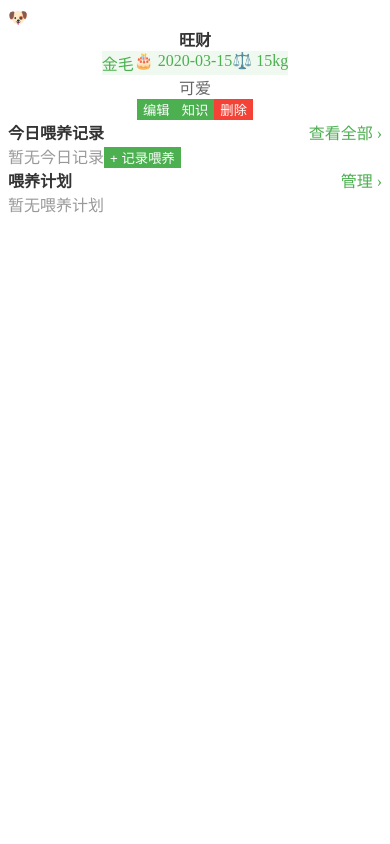
Test: 生日弹窗交互 › 点击🎂标签弹出生日编辑弹窗
Click the text with class "tag" showing "🎂 2020-03-15". click: (183,63)
box: [134, 51, 232, 75]
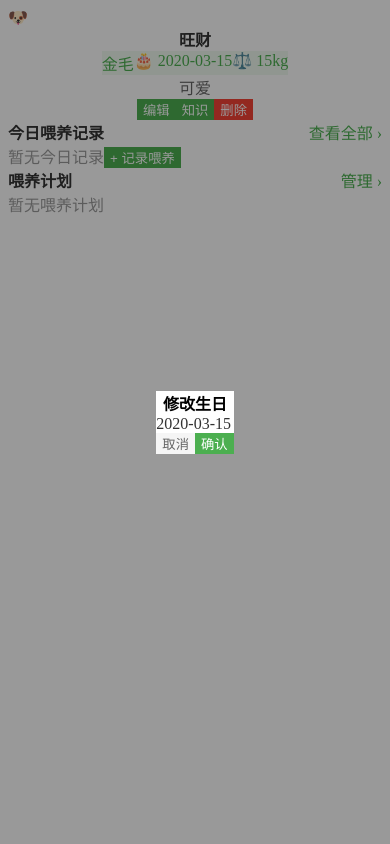
Now the element with class "overlay" is shown
Now the text with class "overlay-title" reads "修改生日", box [163, 396, 227, 412]
